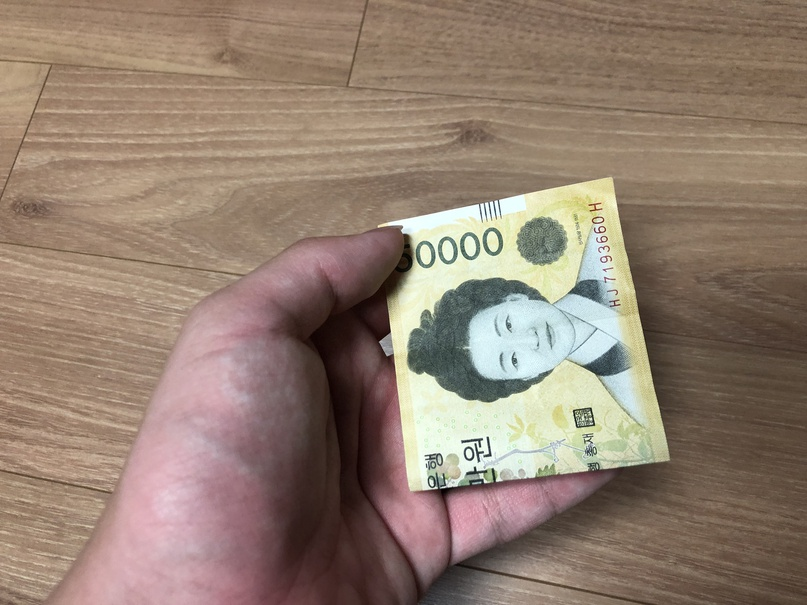50000won: (378, 178, 670, 491)
